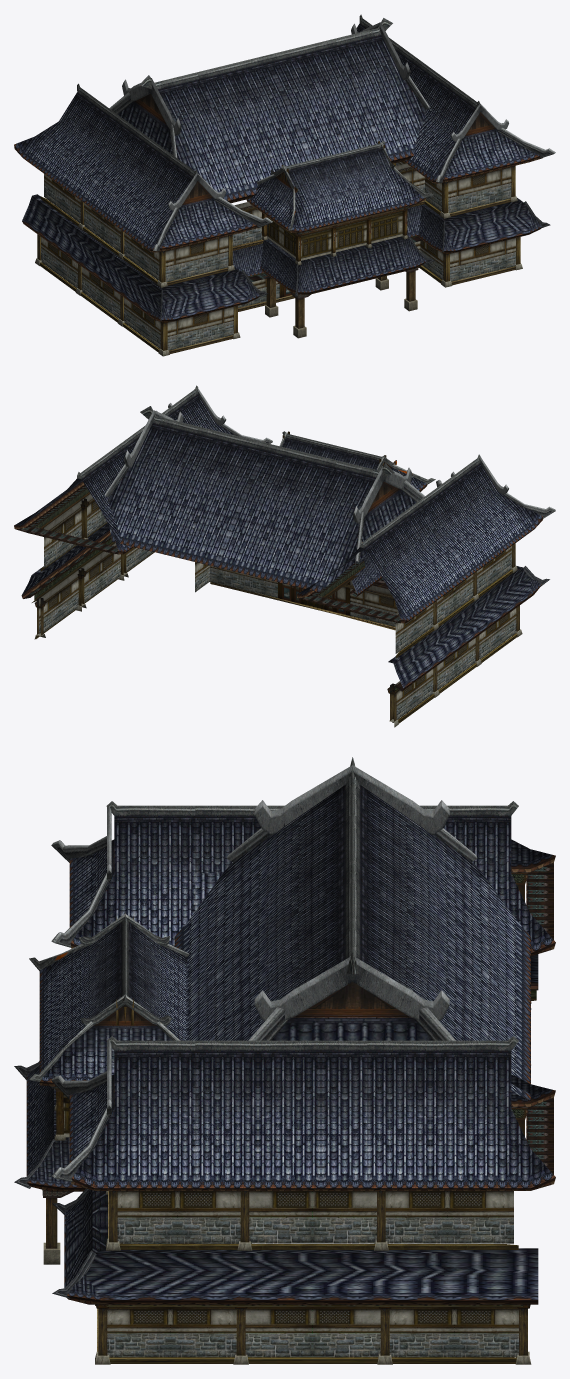
The model's file is b1-006-castle01_lod_01.fbx.
3 renders of one model, top to bottom at view 1: azimuth 30°, elevation 25°; view 2: azimuth 150°, elevation 25°; view 3: azimuth 270°, elevation 25°, orthographic. The views are drawn at different scales.
Parts seen in each view (by area): view 1: b1-006-castle-02, b1-006-castle-04, b1-006-castle-01, b1-006-castle-03, b1-006-castle-05; view 2: b1-006-castle-02, b1-006-castle-04, b1-006-castle-01, b1-006-castle-03; view 3: b1-006-castle-02, b1-006-castle-04, b1-006-castle-01, b1-006-castle-03, b1-006-castle-05.
Part boxes in pixels (x1=…): b1-006-castle-02: x1=14, y1=14, x2=542, y2=265; b1-006-castle-04: x1=35, y1=161, x2=550, y2=356; b1-006-castle-01: x1=22, y1=194, x2=541, y2=321; b1-006-castle-03: x1=109, y1=22, x2=555, y2=260; b1-006-castle-05: x1=264, y1=267, x2=418, y2=338; b1-006-castle-02: x1=14, y1=385, x2=542, y2=623; b1-006-castle-04: x1=32, y1=494, x2=549, y2=727; b1-006-castle-01: x1=21, y1=523, x2=541, y2=691; b1-006-castle-03: x1=104, y1=388, x2=555, y2=567; b1-006-castle-02: x1=29, y1=757, x2=555, y2=1190; b1-006-castle-04: x1=14, y1=885, x2=536, y2=1364; b1-006-castle-01: x1=26, y1=954, x2=538, y2=1304; b1-006-castle-03: x1=51, y1=765, x2=477, y2=1182; b1-006-castle-05: x1=42, y1=1189, x2=73, y2=1264.
Size of the model in its own units: 30.4 by 15.24 by 20.79.
